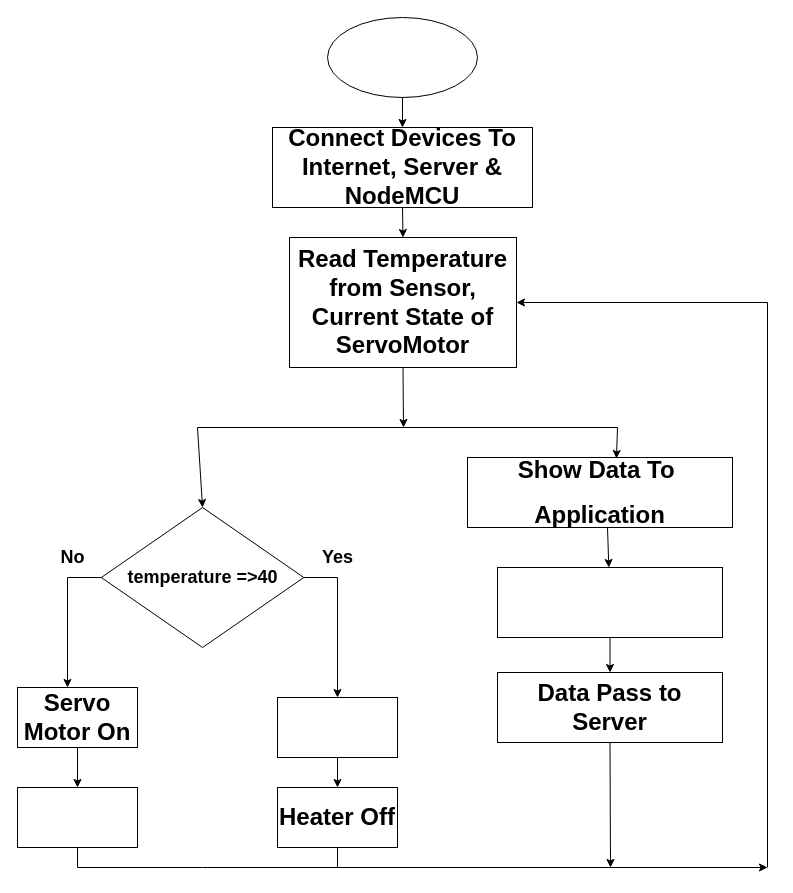
Some shapes in this 793 by 893 pixel diagram are drawn without their labels. Each missing label, with the centre of its shape:
"Heater On" belongs at (x=77, y=817).
"Read User Input" belongs at (x=609, y=602).
"Servo Motor Off" belongs at (x=337, y=727).
"Start" belongs at (x=402, y=57).
